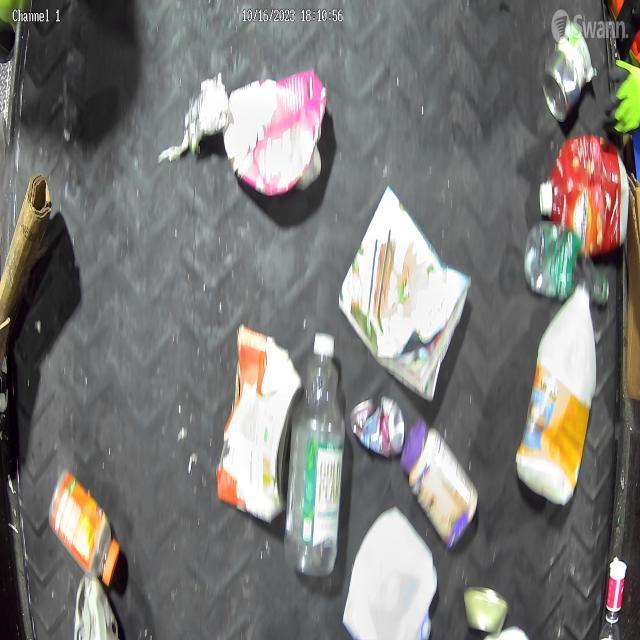can: (350, 391, 404, 459)
milk_jug: (342, 514, 436, 640)
non_white_jug: (538, 134, 628, 245)
plastic_bottle: (291, 332, 343, 576), (522, 223, 610, 307)
